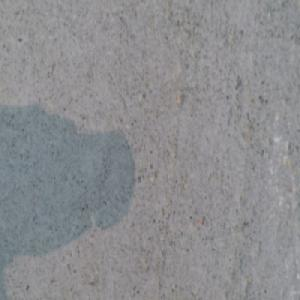Washer: (91, 286, 112, 300)
